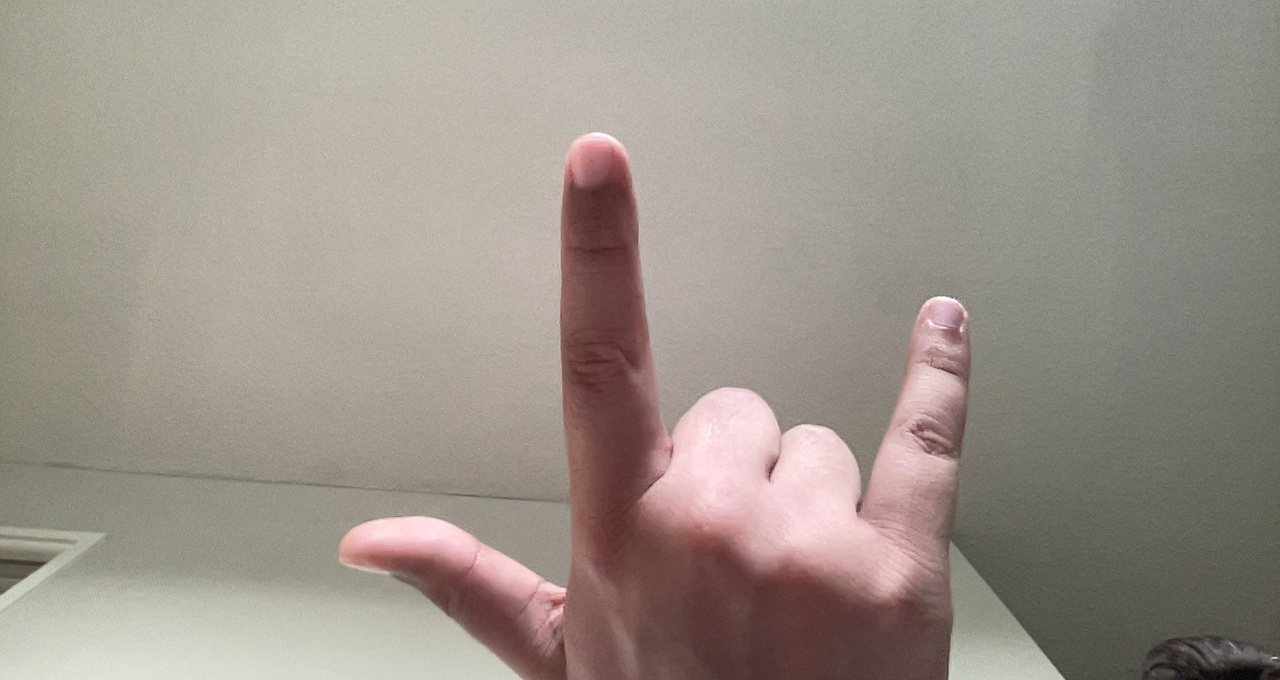rockon sign: (323, 127, 970, 660)
